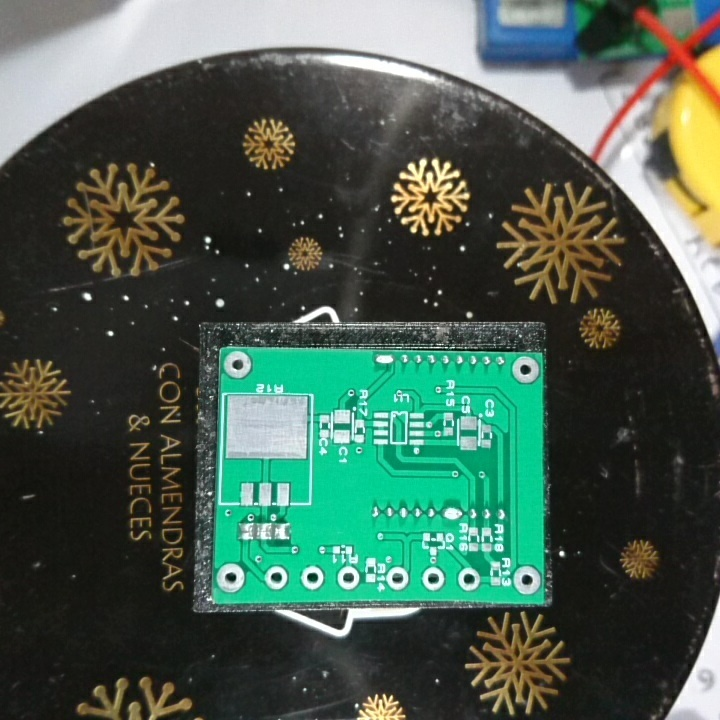F: (214, 561, 247, 595), (510, 565, 544, 598), (221, 349, 253, 379), (510, 355, 540, 386), (262, 563, 290, 593), (297, 563, 325, 592), (420, 564, 447, 593), (334, 563, 360, 592), (384, 564, 410, 593), (455, 567, 482, 593)
P: (372, 349, 396, 371), (439, 503, 464, 524)
